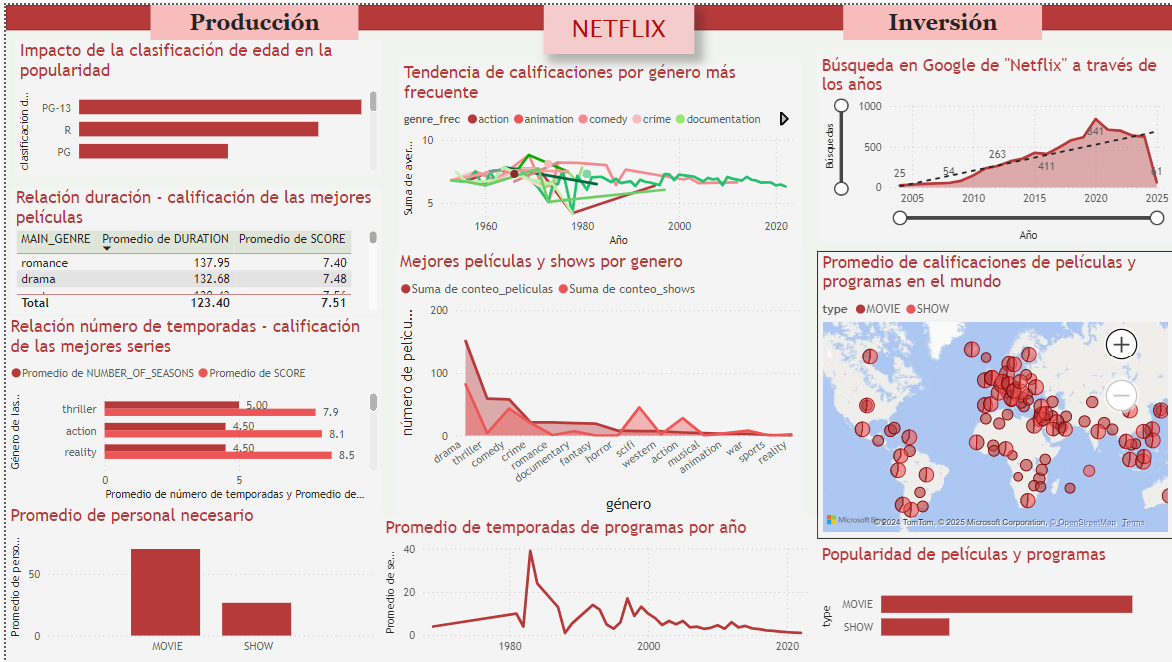

The dashboard page shown, as its layout file describes it:
{"tool":"powerbi","page":{"name":"Página 1","canvas":[1280,720],"ordinal":0},"visuals":[{"type":"shape","box":[0,0,1280.2,27.7],"z":0},{"type":"clusteredBarChart","title":"Impacto de la clasificación de edad en la popularidad","fields":{"Category":["data_netflix_clean (2).age_certification"],"Y":["Avg(data_netflix_clean (2).imdb_votes)"]},"box":[10,38.3,401.7,148.3],"z":1000},{"type":"textbox","box":[158.3,0,228.3,38.3],"z":2000},{"type":"textbox","box":[918.3,0,218.3,38.3],"z":3000},{"type":"map","title":"Promedio de calificaciones de películas y programas en el mundo","fields":{"Series":["data_netflix_clean (2).type"],"Size":["Avg(data_netflix_clean (2).imdb_score)"],"Category":["data_netflix_clean (2).production_countries"]},"box":[889.6,270.6,390.7,315.4],"z":4000},{"type":"tableEx","title":"Relación duración - calificación de las mejores películas","fields":{"Values":["mejores_peliculas_netflix.MAIN_GENRE","Avg(mejores_peliculas_netflix.DURATION)","Avg(mejores_peliculas_netflix.SCORE)"]},"box":[5.3,200.6,406.5,139.9],"z":5000},{"type":"clusteredBarChart","title":"Relación número de temporadas - calificación de las mejores series","fields":{"Category":["mejores_shows_netflix.MAIN_GENRE"],"Y":["Avg(mejores_shows_netflix.NUMBER_OF_SEASONS)","Avg(mejores_shows_netflix.SCORE)"]},"box":[0,341.7,411.7,206.7],"z":6000},{"type":"columnChart","title":"Promedio de personal necesario","fields":{"Category":["personal_type.type"],"Y":["Avg(personal_type.personal_pelicula)"]},"box":[0,548.3,411.7,171.7],"z":7000},{"type":"lineChart","title":"Tendencia de calificaciones por género más frecuente","fields":{"Category":["year_genre_score (2).release_year.Variación.Jerarquía de fechas.Año"],"Y":["Sum(year_genre_score (2).average_score_genre)"],"Series":["year_genre_score (2).genre_frec"]},"box":[431.4,62.9,441.4,207.1],"z":8000},{"type":"areaChart","title":"Mejores películas y shows por genero","fields":{"Category":["genero_conteo._id"],"Y":["Sum(genero_conteo.conteo_peliculas)","Sum(genero_conteo.conteo_shows)"]},"box":[427.1,270,448.6,291.4],"z":9000},{"type":"lineChart","title":"Promedio de temporadas de programas por año","fields":{"Category":["data_netflix_clean (2).release_year.Variación.Jerarquía de fechas.Año"],"Y":["Avg(data_netflix_clean (2).seasons)"]},"box":[411.7,561.7,478.3,158.3],"z":10000},{"type":"clusteredBarChart","title":"Popularidad de películas y programas","fields":{"Category":["data_netflix_clean (2).type"],"Y":["Sum(data_netflix_clean (2).imdb_votes)"]},"box":[889.6,591.3,390.7,129.3],"z":11000},{"type":"textbox","box":[590,0,165,54.1],"z":12000},{"type":"lineChart","title":"Búsqueda en Google de \"Netflix\" a través de los años","fields":{"Category":["multiTimeline.Month.Variación.Jerarquía de fechas.Año","multiTimeline.Month.Variación.Jerarquía de fechas.Trimestre","multiTimeline.Month.Variación.Jerarquía de fechas.Mes","multiTimeline.Month.Variación.Jerarquía de fechas.Día"],"Y":["Sum(multiTimeline.netflix)"]},"box":[889.6,54.1,390.7,207.2],"z":13000}]}

Visuals, with their boxes in screenshot pixels (x1, y1, x2, y2), scaled from the page's 1280x720 canvas onto the 1172x662 screenshot:
shape: 0/0/1171/25
"Impacto de la clasificación de edad en la popularidad" clusteredBarChart: 9/35/377/172
textbox: 145/0/354/35
textbox: 841/0/1041/35
"Promedio de calificaciones de películas y programas en el mundo" map: 815/249/1171/539
"Relación duración - calificación de las mejores películas" tableEx: 5/184/377/313
"Relación número de temporadas - calificación de las mejores series" clusteredBarChart: 0/314/377/504
"Promedio de personal necesario" columnChart: 0/504/377/661
"Tendencia de calificaciones por género más frecuente" lineChart: 395/58/799/248
"Mejores películas y shows por genero" areaChart: 391/248/802/516
"Promedio de temporadas de programas por año" lineChart: 377/516/815/661
"Popularidad de películas y programas" clusteredBarChart: 815/544/1171/661
textbox: 540/0/691/50
"Búsqueda en Google de "Netflix" a través de los años" lineChart: 815/50/1171/240
